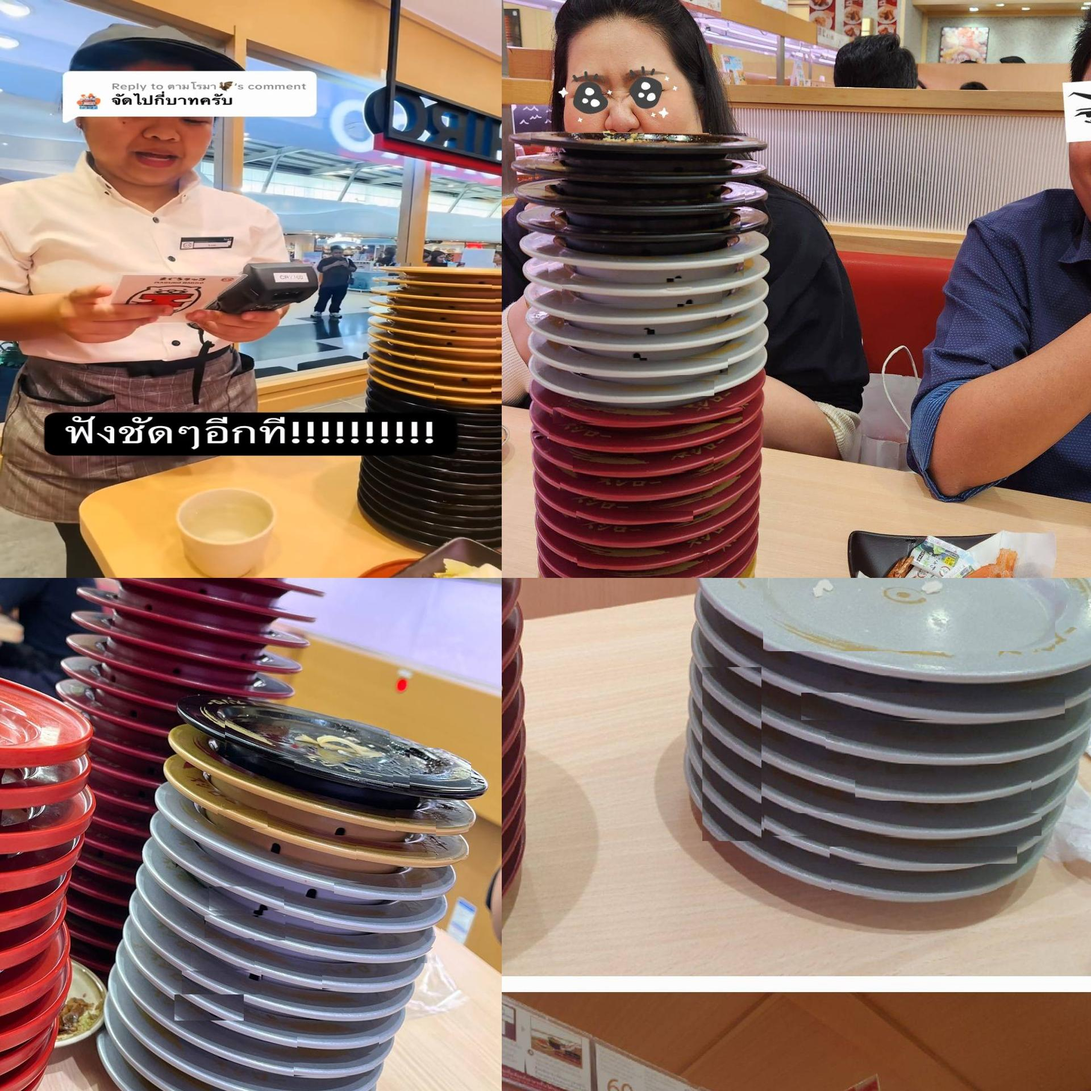Janback: (221, 719, 395, 758), (540, 207, 756, 236), (530, 160, 764, 181), (534, 184, 756, 206), (525, 133, 765, 153), (407, 746, 474, 792), (292, 761, 396, 789), (394, 530, 449, 545), (446, 406, 501, 420), (432, 524, 501, 535), (434, 483, 502, 494), (431, 470, 500, 479), (439, 504, 498, 513), (442, 516, 498, 524), (439, 495, 497, 502), (457, 434, 501, 443), (446, 459, 498, 466), (461, 447, 499, 454), (462, 423, 499, 430)
Jangold: (279, 806, 399, 837), (384, 290, 499, 307), (373, 263, 498, 278), (435, 815, 470, 862), (355, 844, 425, 867), (375, 278, 497, 291), (192, 769, 263, 790), (394, 306, 500, 319), (407, 320, 499, 333), (216, 810, 269, 830), (413, 347, 499, 359), (412, 335, 499, 346), (425, 370, 498, 383), (419, 359, 499, 370), (429, 382, 497, 393), (434, 396, 499, 404)
Janred: (103, 627, 212, 666), (160, 587, 263, 624), (545, 406, 751, 424), (546, 428, 730, 447), (95, 674, 182, 709), (565, 455, 722, 473), (558, 481, 715, 499), (575, 553, 711, 570), (97, 716, 162, 748), (97, 768, 156, 797), (569, 510, 700, 523), (584, 529, 710, 542), (100, 821, 147, 846), (84, 869, 132, 891), (102, 792, 145, 816), (108, 749, 160, 768), (80, 904, 119, 929), (92, 847, 132, 871), (81, 933, 112, 955), (585, 574, 694, 578)
Janwhite: (739, 578, 1079, 660), (701, 664, 763, 845), (791, 692, 1076, 722), (822, 732, 1068, 764), (127, 1020, 243, 1086), (761, 813, 1045, 836), (543, 256, 749, 280), (845, 779, 1042, 802), (818, 878, 1011, 900), (819, 846, 1028, 865), (556, 284, 729, 305), (159, 813, 188, 923), (312, 913, 444, 937), (576, 358, 732, 376), (561, 313, 720, 330), (168, 992, 250, 1023), (200, 914, 290, 942), (564, 338, 718, 354), (575, 380, 718, 397), (187, 936, 258, 969), (313, 947, 438, 964), (180, 970, 264, 995), (327, 881, 429, 901), (214, 859, 295, 884), (207, 886, 287, 911), (305, 1007, 426, 1023), (292, 1035, 385, 1055), (315, 974, 420, 991), (289, 1061, 381, 1078), (275, 1086, 378, 1091)
